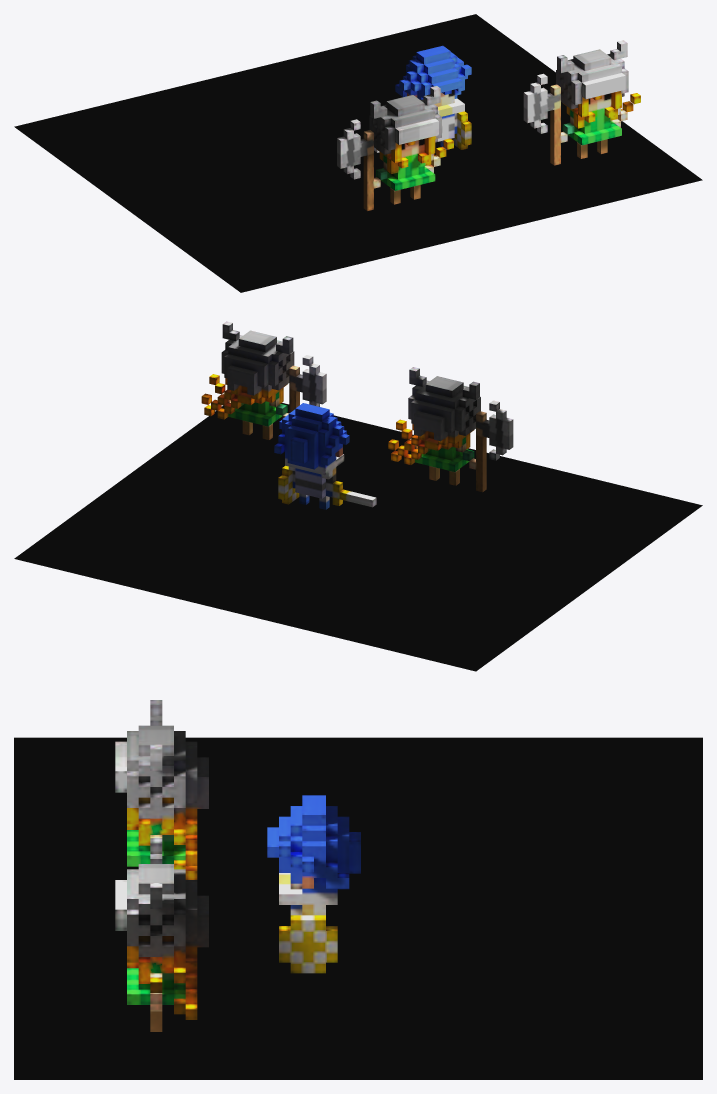
Rendered from model2-baked.glb.
3 renders of one model, top to bottom at view 1: azimuth 30°, elevation 25°; view 2: azimuth 150°, elevation 25°; view 3: azimuth 270°, elevation 25°, orthographic. The views are drawn at different scales.
Visible parts, largest first — view 1: Plane, chr_sword.vox; view 2: Plane, chr_sword.vox; view 3: Plane, chr_sword.vox.
Part boxes in pixels (x1=…): Plane: x1=14, y1=14, x2=702, y2=292; chr_sword.vox: x1=337, y1=40, x2=640, y2=210; Plane: x1=14, y1=402, x2=702, y2=671; chr_sword.vox: x1=201, y1=321, x2=513, y2=509; Plane: x1=14, y1=737, x2=702, y2=1079; chr_sword.vox: x1=115, y1=700, x2=360, y2=1031.
Size of the model in its own units: 6.93 by 1.6 by 5.89.
Materials: 2 (2 with a texture image).
